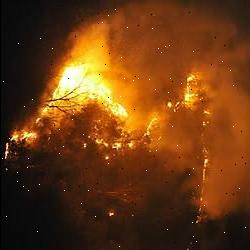fire: (0, 40, 165, 174), (170, 47, 230, 189)
